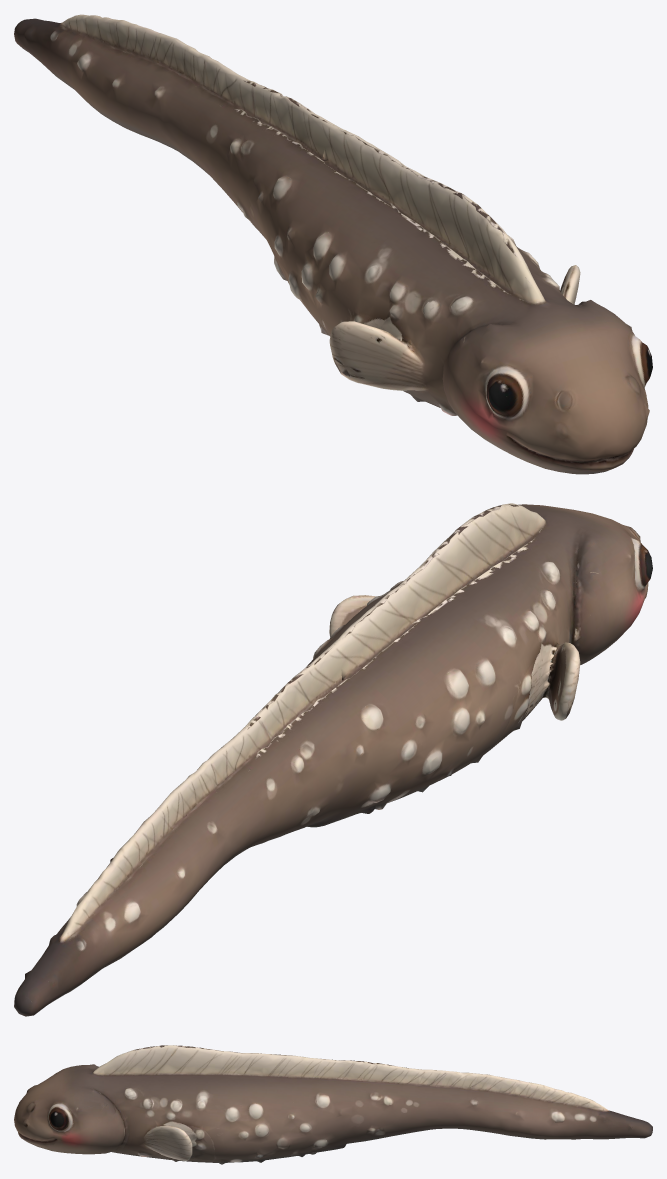
File: Spotted_Swimmer_1111184959_texture.fbx
The picture shows the model from 3 angles, top to bottom: view 1: azimuth 30°, elevation 25°; view 2: azimuth 150°, elevation 25°; view 3: azimuth 270°, elevation 25°; orthographic projection. The views are drawn at different scales.
Parts seen in each view (by area): view 1: Mesh1.0; view 2: Mesh1.0; view 3: Mesh1.0.
Part boxes in pixels (x1,y1,x2,y2): Mesh1.0: (14,14,652,474); Mesh1.0: (14,503,652,1016); Mesh1.0: (14,1045,652,1164).
Size of the model in its own units: 45.6 by 36.79 by 191.
Materials: 1 (1 with a texture image).
